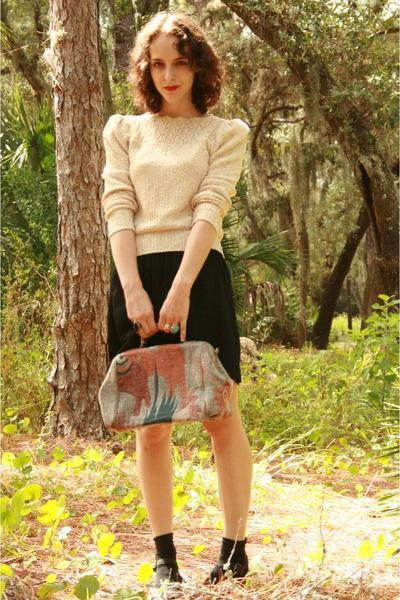bag: (98, 342, 238, 458)
jacket: (101, 112, 251, 253)
shoe: (154, 533, 250, 584)
skirt: (107, 251, 242, 383)
